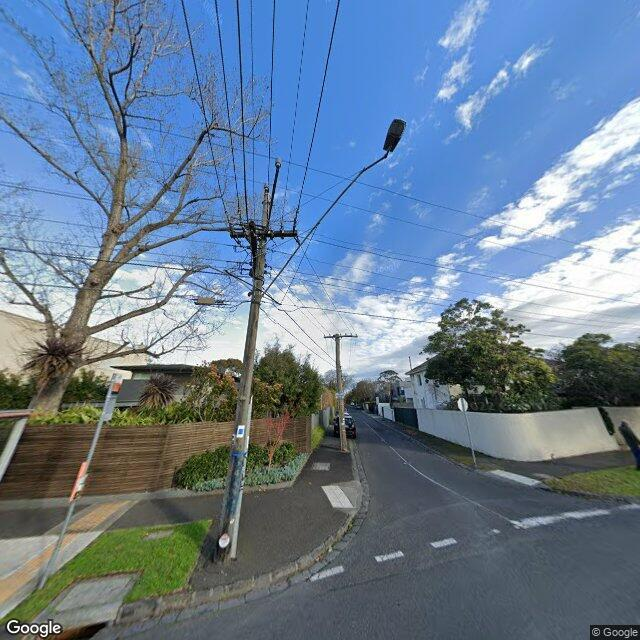HV-transmission: (264, 158, 281, 192)
crossarm: (268, 166, 280, 220), (230, 230, 297, 239), (324, 335, 358, 338)
streetlight: (256, 119, 406, 302), (196, 297, 252, 305)
timber-pole: (214, 194, 270, 563), (336, 334, 348, 452)
